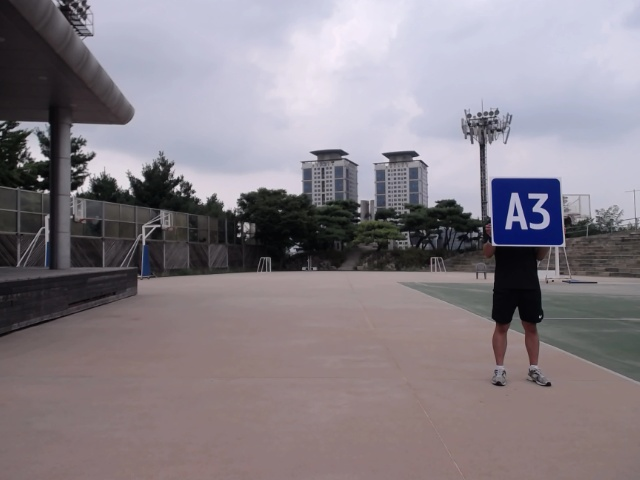delivery_a3: (490, 176, 565, 247)
